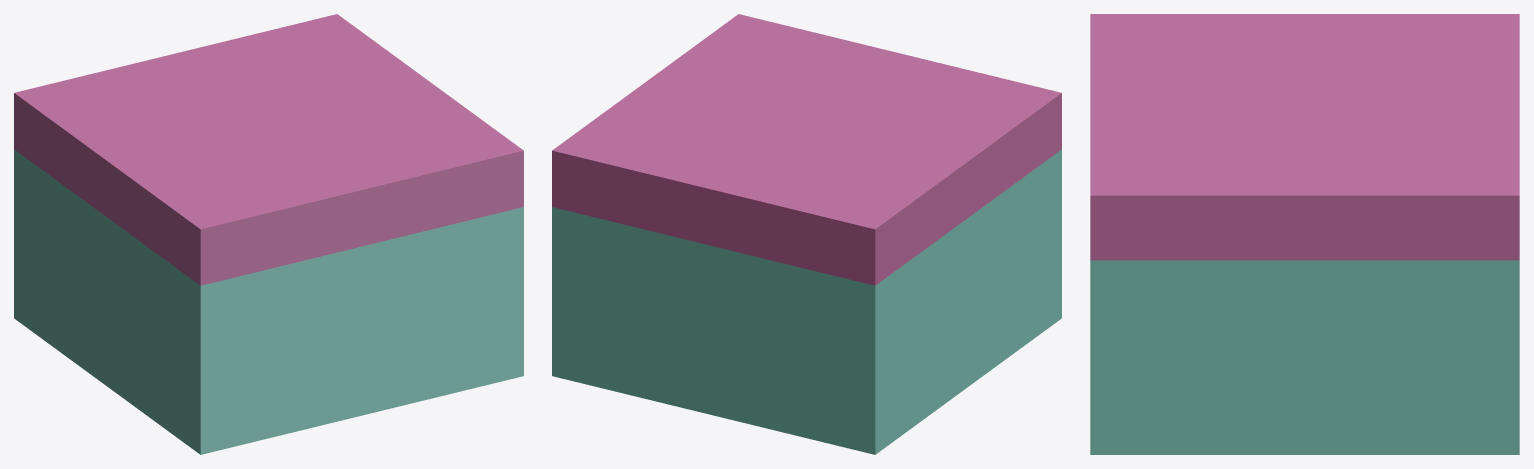
The model's file is squidgame_props_platform1_blue.fbx.
3 renders of one model, left to right at view 1: azimuth 30°, elevation 25°; view 2: azimuth 150°, elevation 25°; view 3: azimuth 270°, elevation 25°, orthographic. The views are drawn at different scales.
Parts seen in each view (by area): view 1: squidgame_props_platform1_blue; view 2: squidgame_props_platform1_blue; view 3: squidgame_props_platform1_blue.
Part boxes in pixels (box(x1,y1,x2,y2)): squidgame_props_platform1_blue: box(14, 14, 523, 454); squidgame_props_platform1_blue: box(552, 14, 1061, 454); squidgame_props_platform1_blue: box(1090, 14, 1519, 454).
Bounding box in the file's own units: 1.5 × 1 × 1.5.
